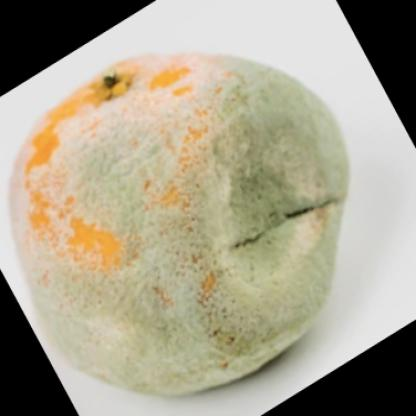rotten: (15, 53, 348, 399)
